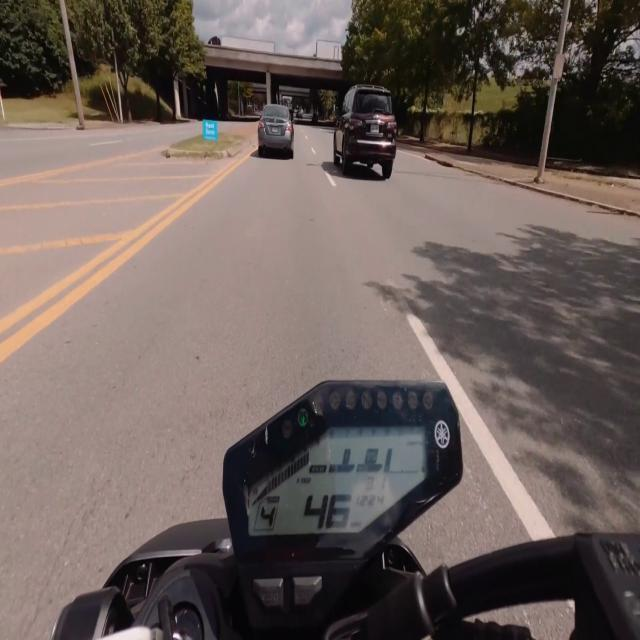car: (333, 85, 397, 178), (258, 105, 293, 158)
motorcycle: (52, 382, 639, 639)
